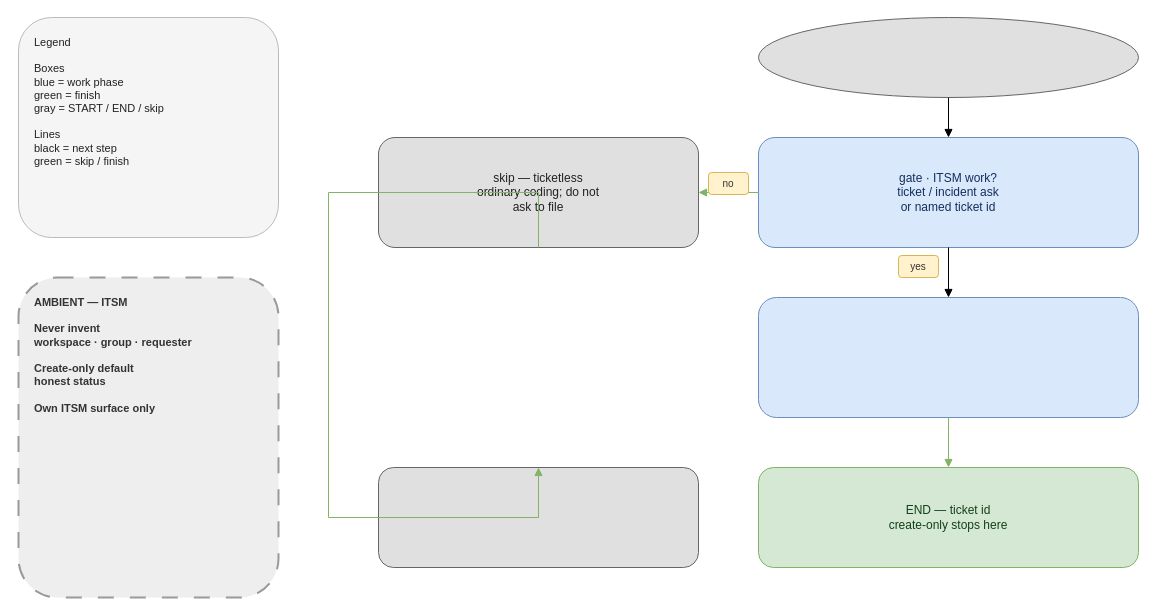
Some shapes in this 1156 by 616 pixel diagram are drawn without their labels. Here are the shapes that lost their labels. From the top down, the centre of each, then its label:
At point (948, 57): "START — user ask".
At point (948, 357): "create / update shape body; status honest; MCP when ready".
At point (538, 517): "END — stay out".
